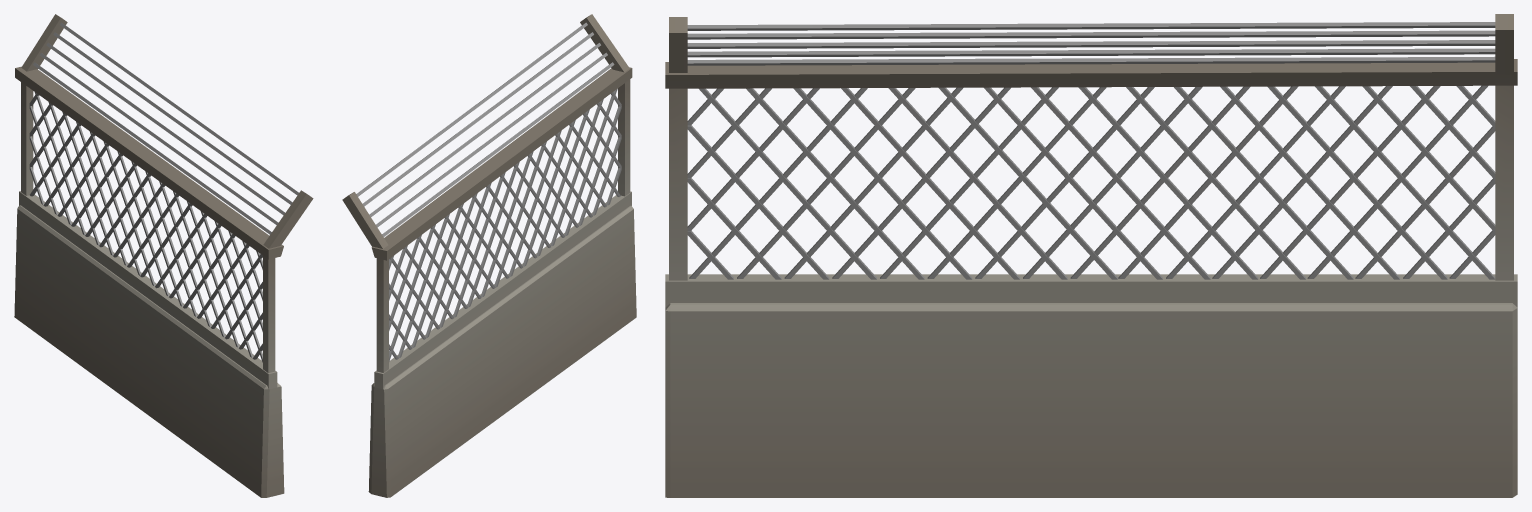
The model's file is Fence_6_1_C.glb.
The picture shows the model from 3 angles, left to right: view 1: azimuth 30°, elevation 25°; view 2: azimuth 150°, elevation 25°; view 3: azimuth 270°, elevation 25°; orthographic projection. The views are drawn at different scales.
Parts seen in each view (by area): view 1: Fence_6_1_C; view 2: Fence_6_1_C; view 3: Fence_6_1_C.
Boxes of the visible parts, <box> form: Fence_6_1_C: <box>14,14,313,497</box>; Fence_6_1_C: <box>342,14,636,497</box>; Fence_6_1_C: <box>665,14,1517,497</box>.
Bounding box in the file's own units: 0.7215 × 3.88 × 6.
3 materials, 3 textured.
